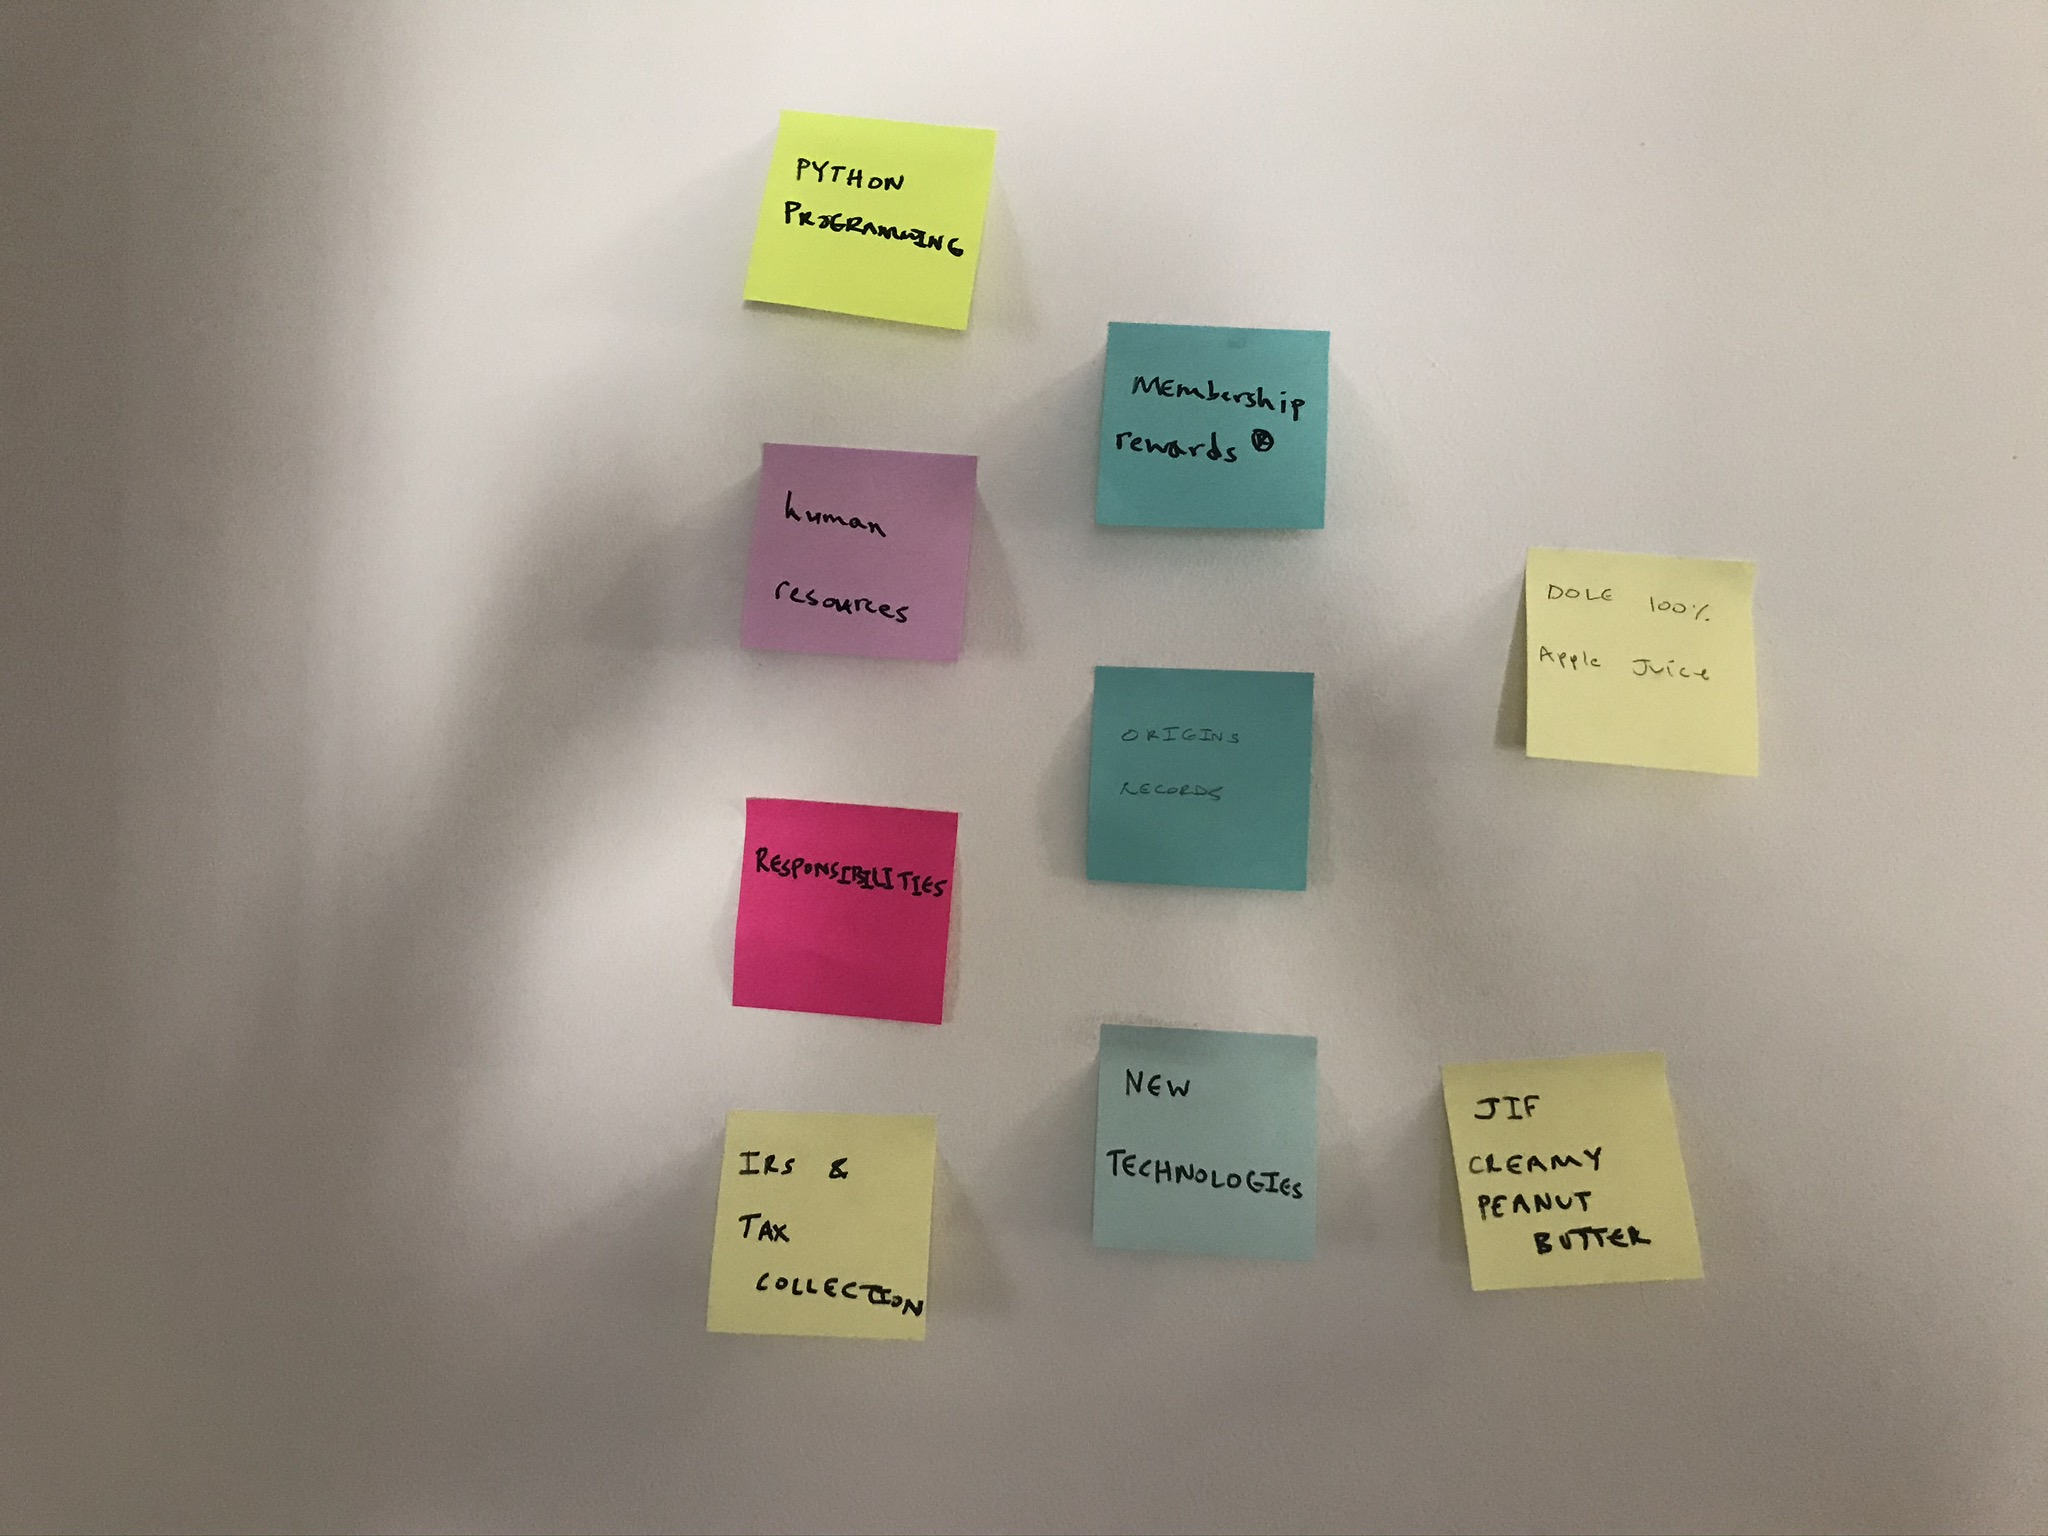sticky: (1435, 1050, 1709, 1292), (739, 105, 998, 334), (737, 442, 984, 665), (1521, 549, 1756, 778), (734, 795, 961, 1028), (706, 1108, 934, 1341), (1093, 1021, 1321, 1254), (1084, 665, 1314, 884), (1097, 319, 1330, 532)
